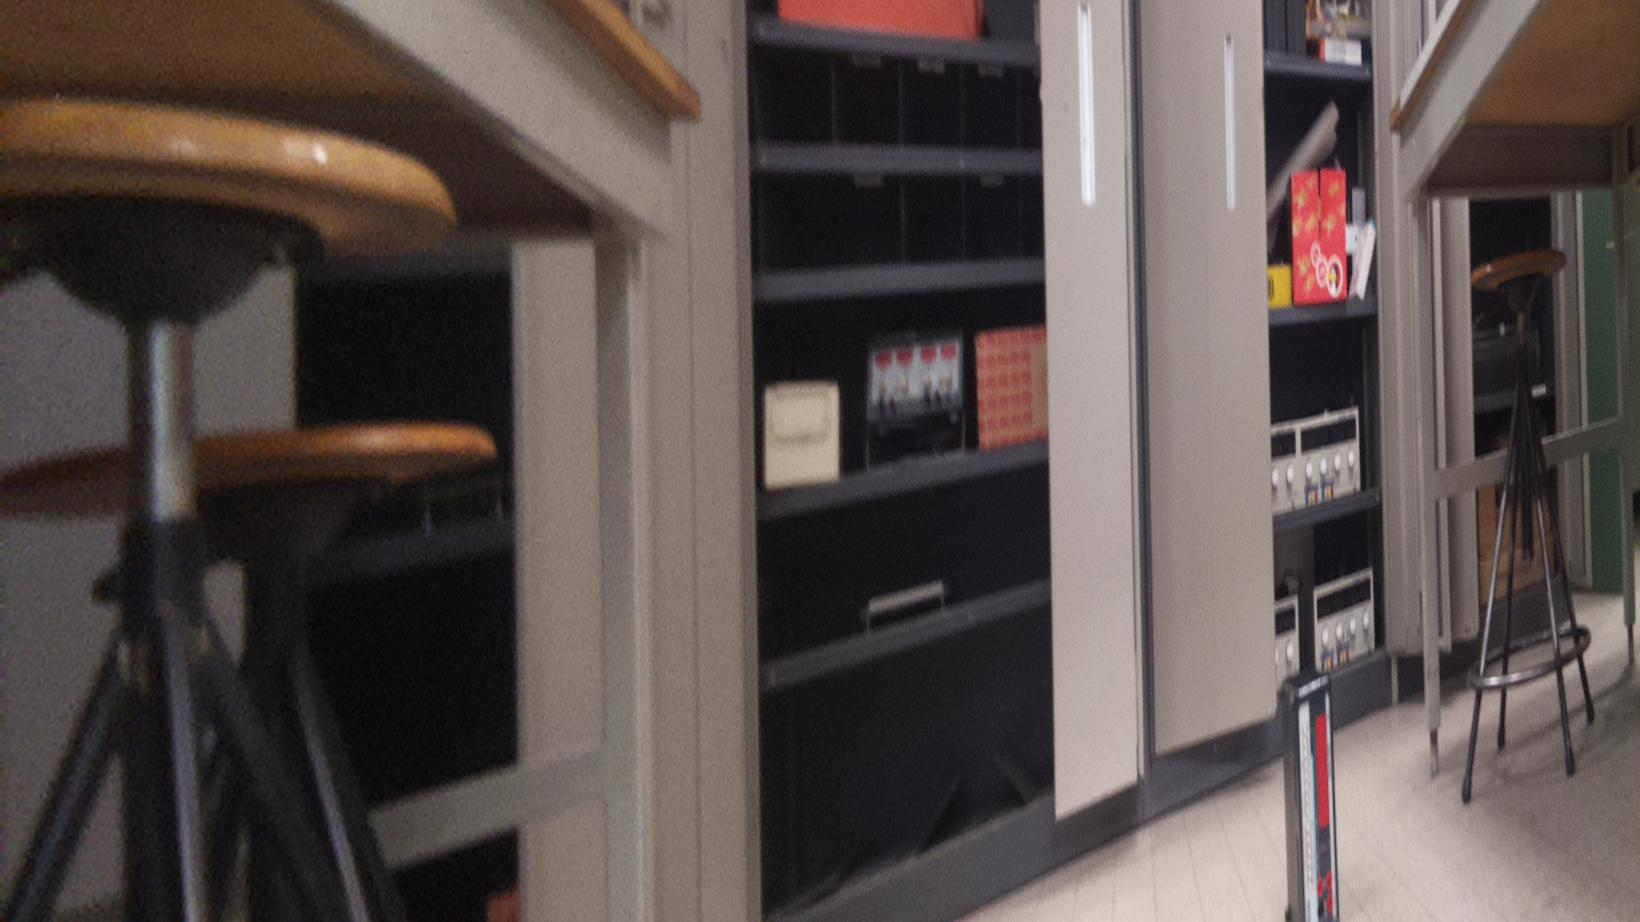medium: (1276, 672, 1348, 922)
